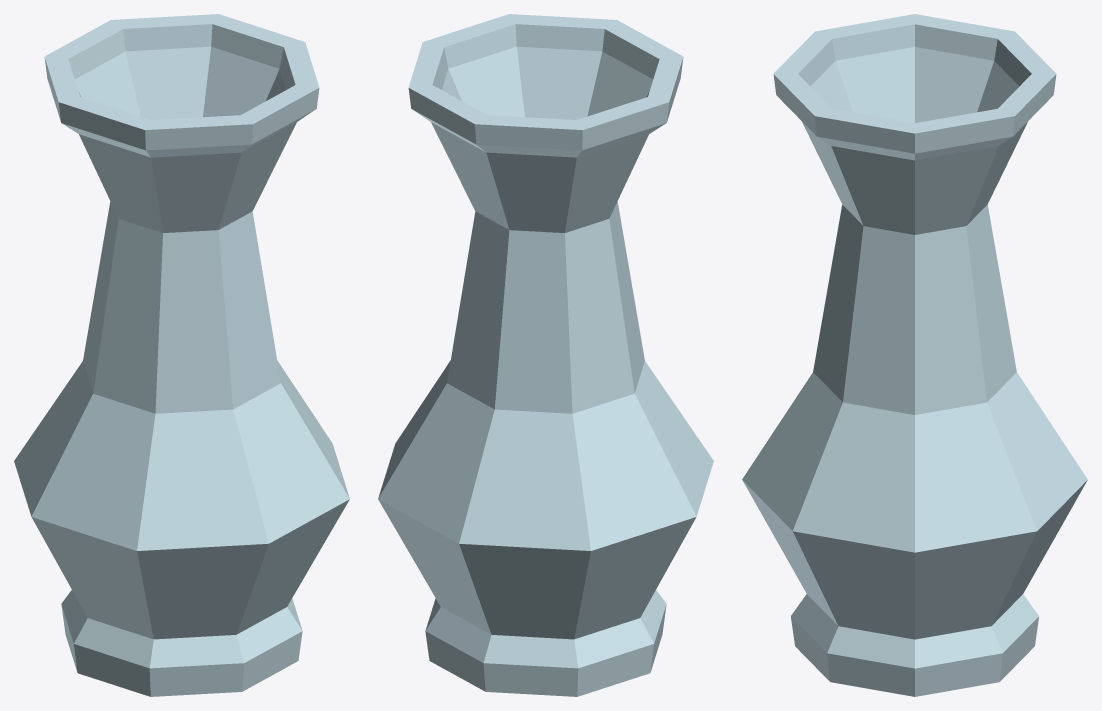
File: Vase2.glb
3 views of the same model, side by side, from view 1: azimuth 30°, elevation 25°; view 2: azimuth 150°, elevation 25°; view 3: azimuth 270°, elevation 25° (orthographic).
Visible parts, largest first — view 1: Vase2_Cylinder.005; view 2: Vase2_Cylinder.005; view 3: Vase2_Cylinder.005.
Part boxes in pixels (x1=…): Vase2_Cylinder.005: x1=14, y1=14, x2=349, y2=696; Vase2_Cylinder.005: x1=378, y1=14, x2=713, y2=696; Vase2_Cylinder.005: x1=742, y1=14, x2=1087, y2=696.
Size of the model in its own units: 0.1676 by 0.306 by 0.1676.
